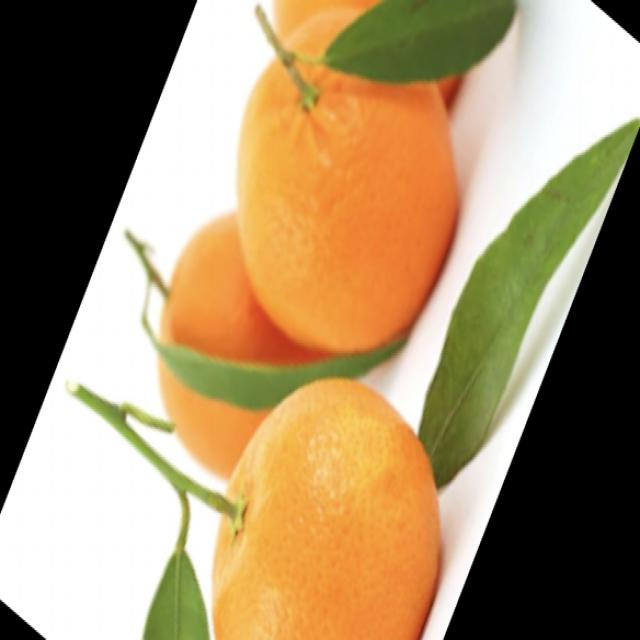fresh: (53, 1, 550, 640)
